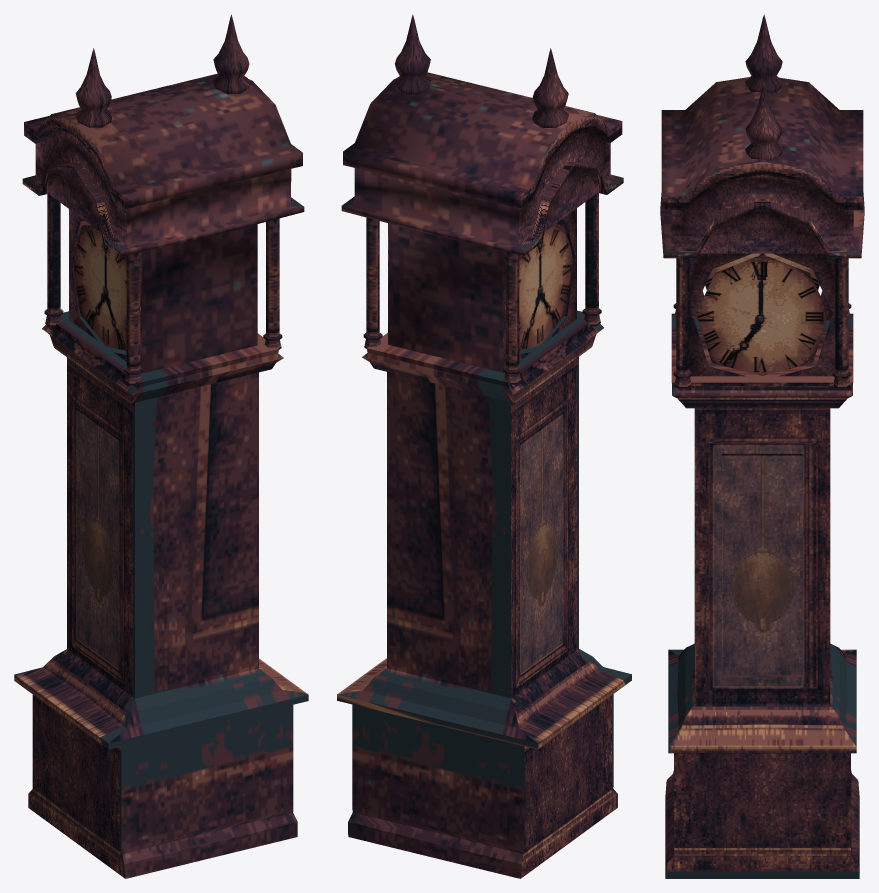
Rendered from Relog_alto.fbx.
3 views of the same model, side by side, from view 1: azimuth 30°, elevation 25°; view 2: azimuth 150°, elevation 25°; view 3: azimuth 270°, elevation 25° (orthographic).
Visible parts, largest first — view 1: Cylinder; view 2: Cylinder; view 3: Cylinder.
Boxes of the visible parts, x1,y1,x2,y2 form: Cylinder: [14, 14, 308, 878]; Cylinder: [337, 14, 631, 878]; Cylinder: [660, 14, 864, 878].
Bounding box in the file's own units: 219 × 828 × 194.
